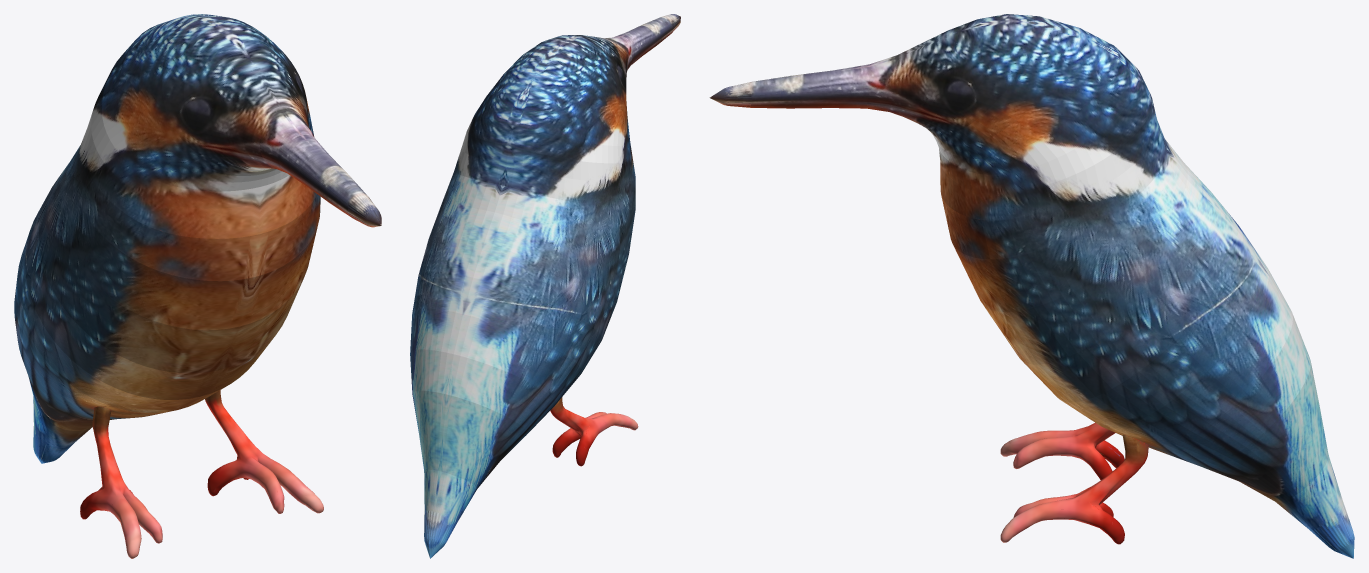
Rendered from Kingfisher-bl.obj.
The picture shows the model from 3 angles, left to right: view 1: azimuth 30°, elevation 25°; view 2: azimuth 150°, elevation 25°; view 3: azimuth 270°, elevation 25°; orthographic projection. The views are drawn at different scales.
Parts seen in each view (by area): view 1: Cylinder.001; view 2: Cylinder.001; view 3: Cylinder.001.
Part boxes in pixels (x1,y1,x2,y2): Cylinder.001: [14, 14, 381, 558]; Cylinder.001: [410, 14, 680, 558]; Cylinder.001: [709, 14, 1354, 558].
Size of the model in its own units: 2.74 by 6.37 by 6.92.
Materials: 1 (1 with a texture image).
